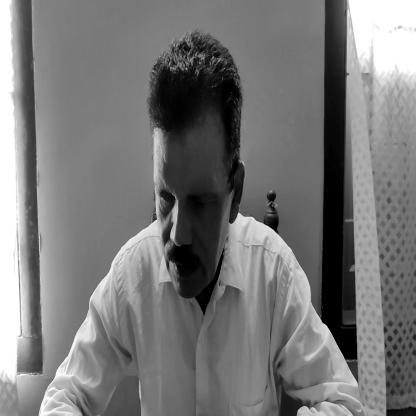Distracted: (154, 32, 246, 306)
